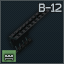AK Zenit B-12 Mount: (0, 0, 64, 64)
